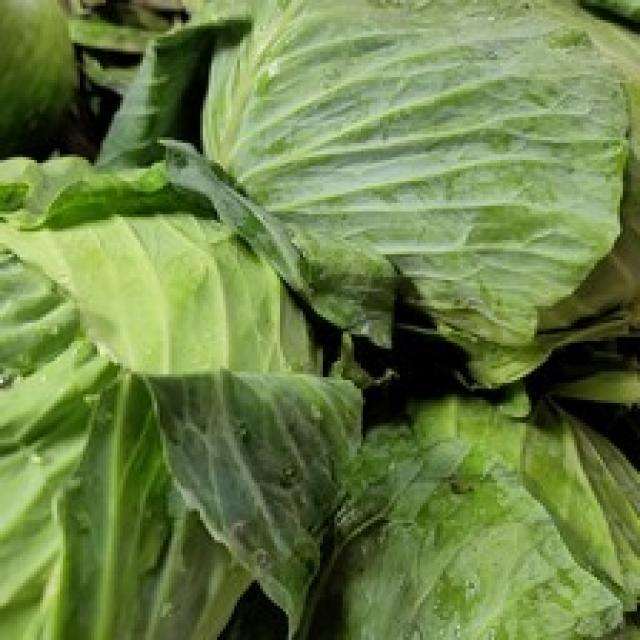organik: (5, 93, 381, 634)
